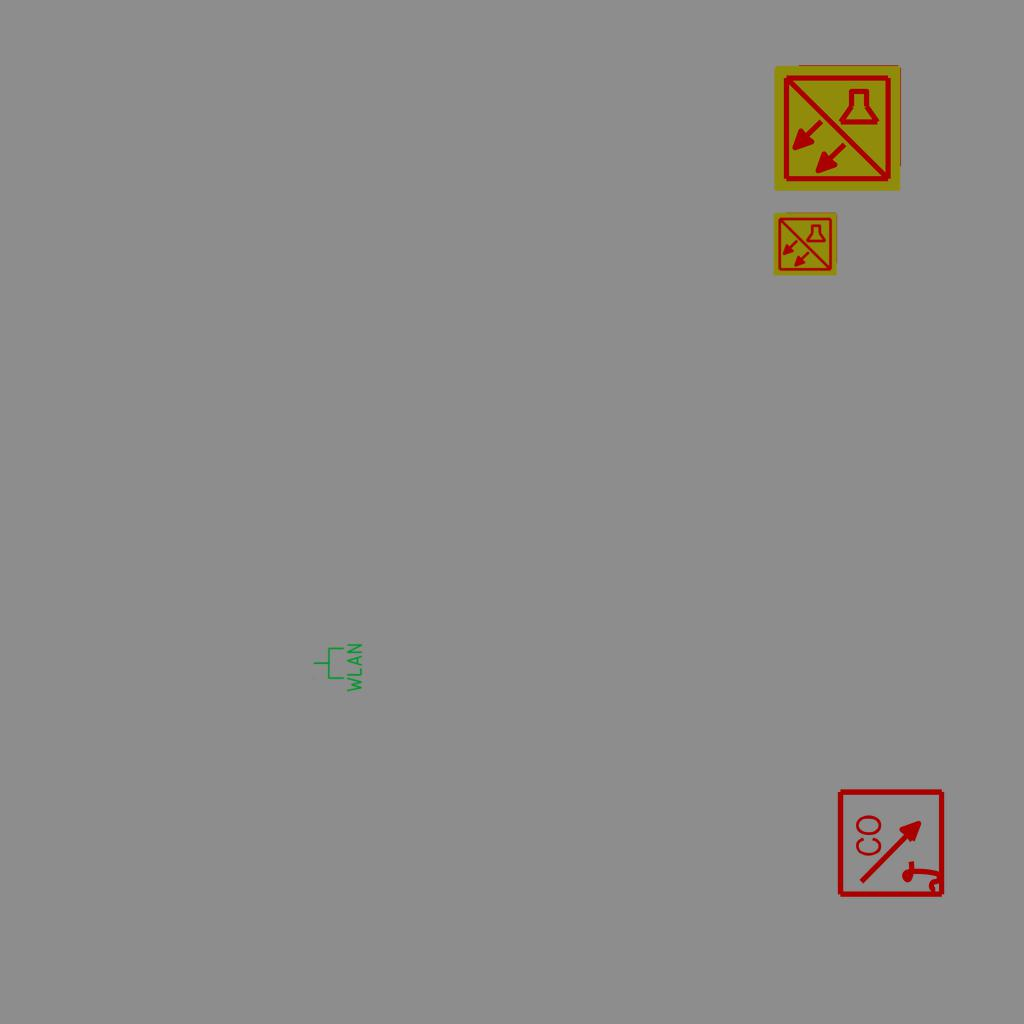OKW_Multisensormelder_(Kombination_optischer_Rauch-Kahlenmonoxid_Waerme-Melder): (771, 62, 903, 194), (772, 211, 838, 277)
ROA_Rauchmelder_optisch_mit_Signalgeber_(Sockelsirene): (836, 786, 949, 899)
WLAN: (312, 642, 364, 694)
